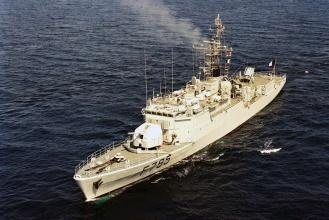warship: (71, 9, 287, 200)
